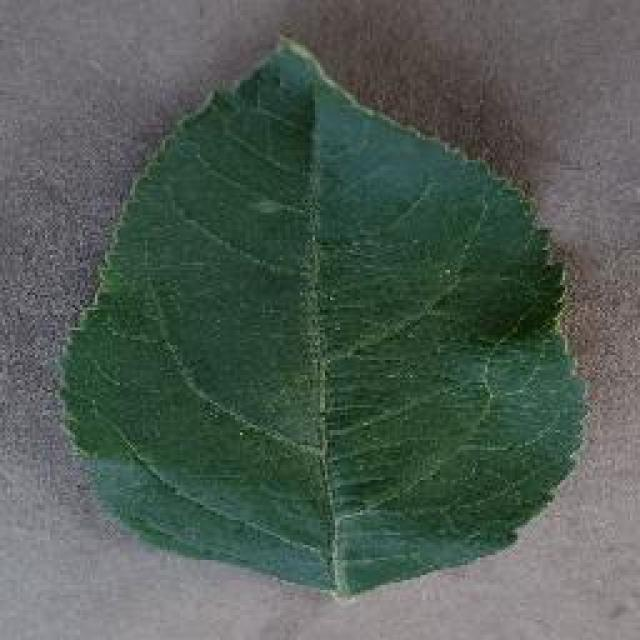apple healthy: (55, 32, 593, 598)
